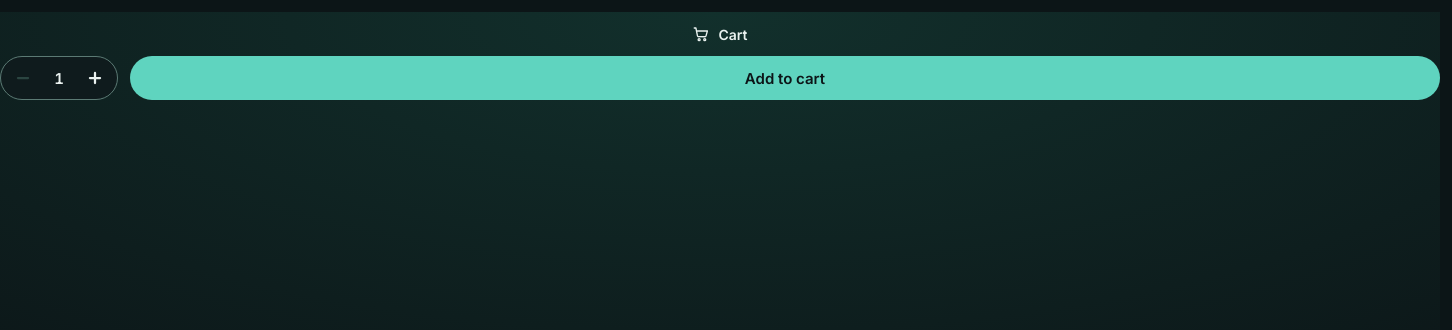
Test: AddToCart when signed in › adds the chosen quantity, confirms it and updates the header count
Expected: the link with aria-label "Cart, 0 items" is shown, [692,25,748,43]
Click the button named "Increase quantity".
click(95, 78)  # box [77,60,113,96]
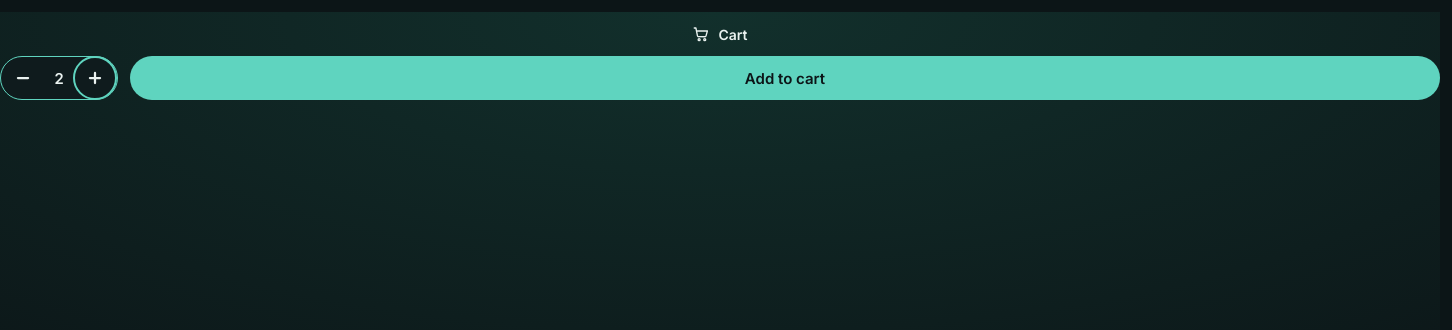
Click the button "Add to cart".
click(785, 78)  # box [130,56,1440,100]
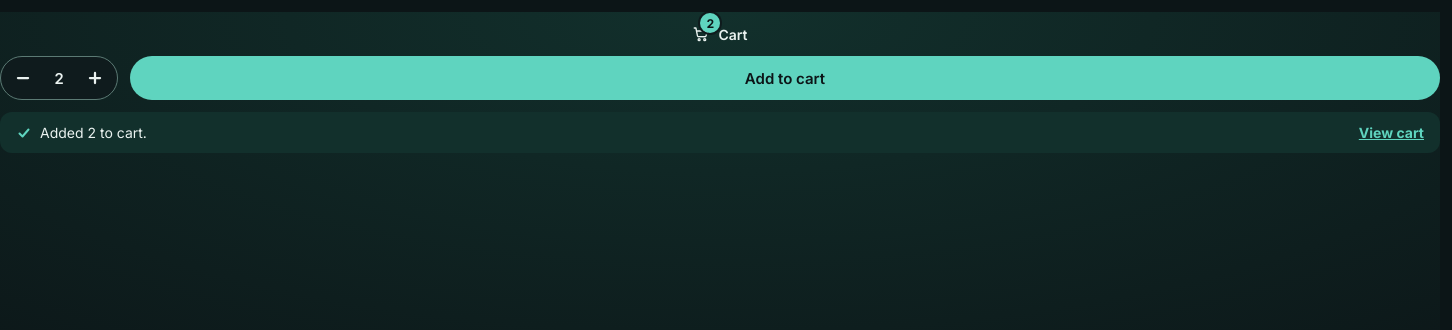
Expected: the message shows "Added 2 to cart.", [0,112,1440,153]
Expected: the link with aria-label "Cart, 2 items" is shown, [692,13,748,43]
